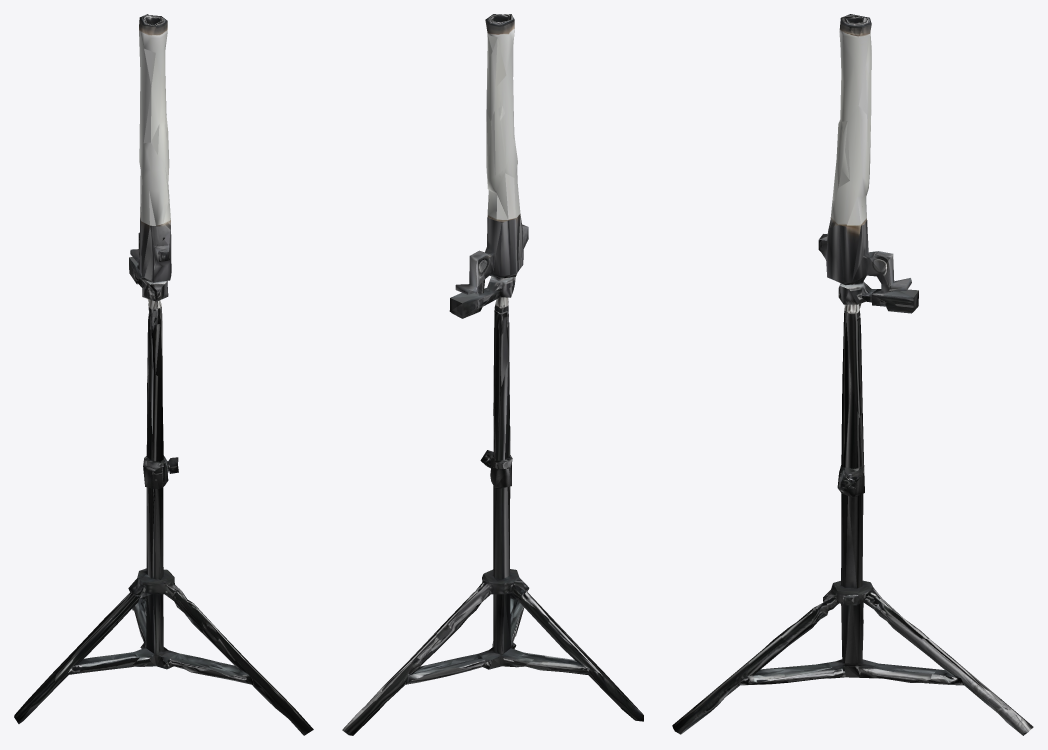
File: luces.fbx
The picture shows the model from 3 angles, left to right: view 1: azimuth 30°, elevation 25°; view 2: azimuth 150°, elevation 25°; view 3: azimuth 270°, elevation 25°; orthographic projection.
Visible parts, largest first — view 1: tripo_node_43d4a20b; view 2: tripo_node_43d4a20b; view 3: tripo_node_43d4a20b.
Boxes of the visible parts, x1=… form: tripo_node_43d4a20b: x1=14, y1=14, x2=313, y2=735; tripo_node_43d4a20b: x1=342, y1=14, x2=643, y2=735; tripo_node_43d4a20b: x1=672, y1=14, x2=1033, y2=735.
Bounding box in the file's own units: 32.73 × 98.29 × 47.11.
Materials: 1 (1 with a texture image).
